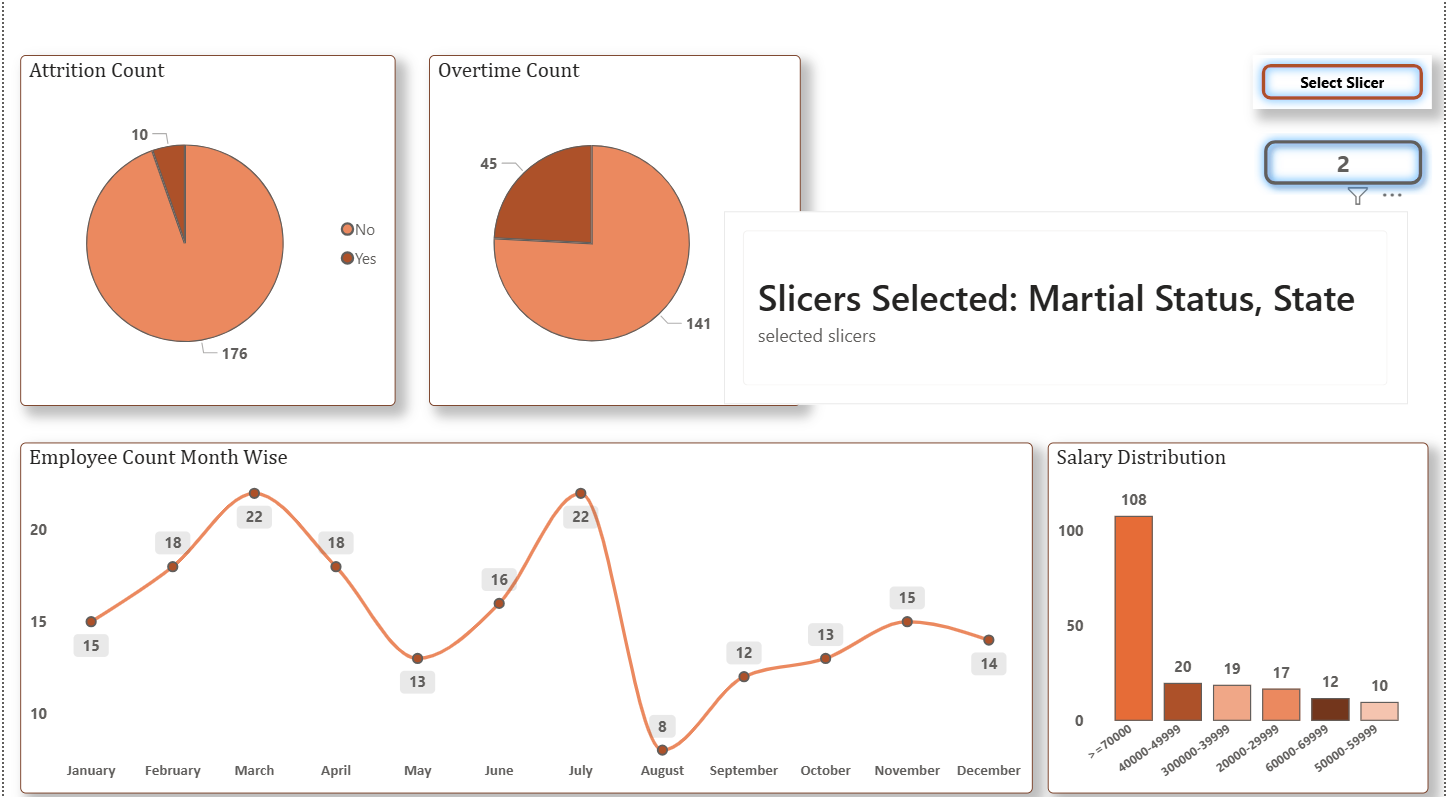

This screenshot's page, from the dashboard's own definition file:
{"tool":"powerbi","page":{"name":"DashBoard","canvas":[1280,720],"ordinal":0},"visuals":[{"type":"group","id":"g1","title":"Visuals","box":[14,48.8,1251.2,655.8],"z":0},{"type":"lineChart","title":"Employee Count Month Wise","fields":{"Category":["Employee.HireDate.Variation.Date Hierarchy.Month"],"Y":["CountNonNull(Employee.EmployeeID)"]},"box":[14,393,900,311.6],"z":0,"group":"g1"},{"type":"pieChart","title":"Attrition Count","fields":{"Y":["CountNonNull(Employee.EmployeeID)"],"Category":["Employee.Attrition"]},"box":[14,48.8,333.7,311.6],"z":1000,"group":"g1"},{"type":"actionButton","title":"Select Slicer","box":[1110.5,48.8,159.3,47.7],"z":1000},{"type":"cardVisual","fields":{"Data":["Measures (2).selected slicers"]},"box":[725.9,187.7,522.4,171.9],"z":1500},{"type":"pieChart","title":"Overtime Count","fields":{"Y":["CountNonNull(Employee.EmployeeID)"],"Category":["Employee.OverTime"]},"box":[376.8,48.8,330.2,311.6],"z":2000,"group":"g1"},{"type":"actionButton","box":[1110.7,115.3,158.5,57.6],"z":2000},{"type":"columnChart","title":"Salary Distribution","fields":{"Category":["Employee.SalaryBins"],"Y":["CountNonNull(Employee.EmployeeID)"]},"box":[926.8,393,338.4,311.6],"z":3000,"group":"g1"}]}

Visuals, with their boxes in screenshot pixels (x1, y1, x2, y2), scaled from the page's 1280x720 canvas onto the 1447x797 screenshot:
"Visuals" group: 16, 54, 1430, 780
"Employee Count Month Wise" lineChart: 16, 435, 1033, 780
"Attrition Count" pieChart: 16, 54, 393, 399
"Select Slicer" actionButton: 1255, 54, 1435, 107
cardVisual - Measures (2).selected slicers: 821, 208, 1411, 398
"Overtime Count" pieChart: 426, 54, 799, 399
actionButton: 1256, 128, 1435, 191
"Salary Distribution" columnChart: 1048, 435, 1430, 780
